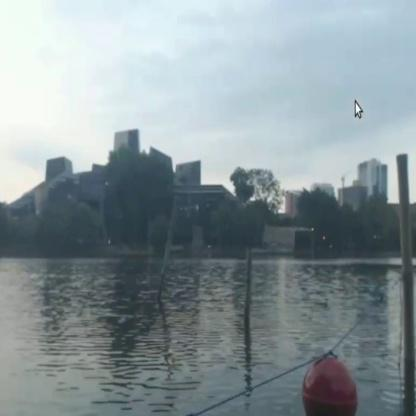red_buoy: (303, 362, 355, 415)
